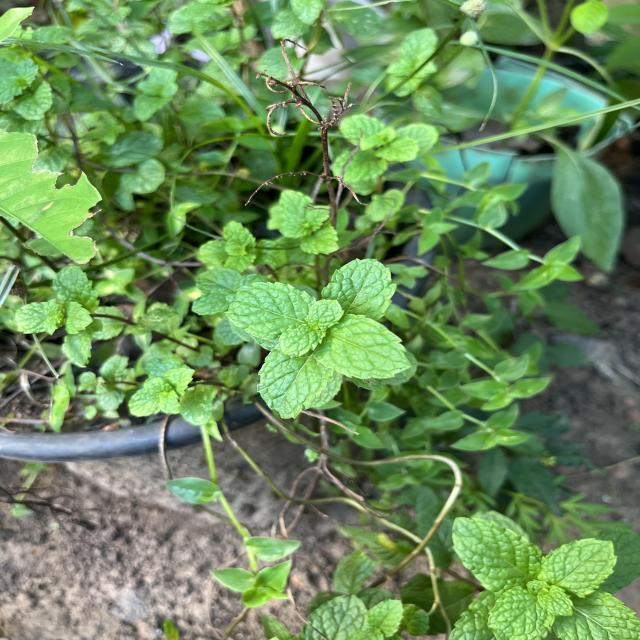Mentha spicata: (312, 312, 413, 380), (256, 344, 335, 419), (224, 281, 314, 339), (320, 256, 397, 320)
